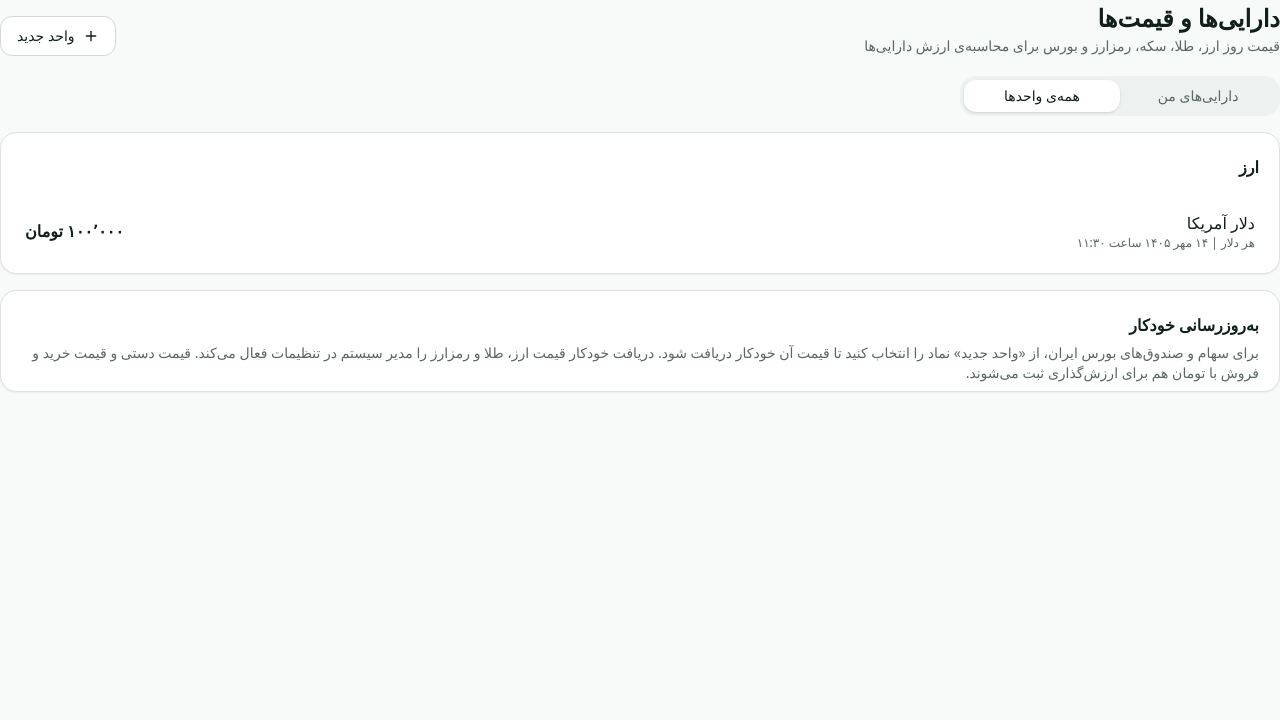
Test case: Iranian securities › lets an ordinary user search and add an Iranian security with automatic pricing
Click the button "واحد جدید": x=58, y=36 [0, 16, 116, 56]
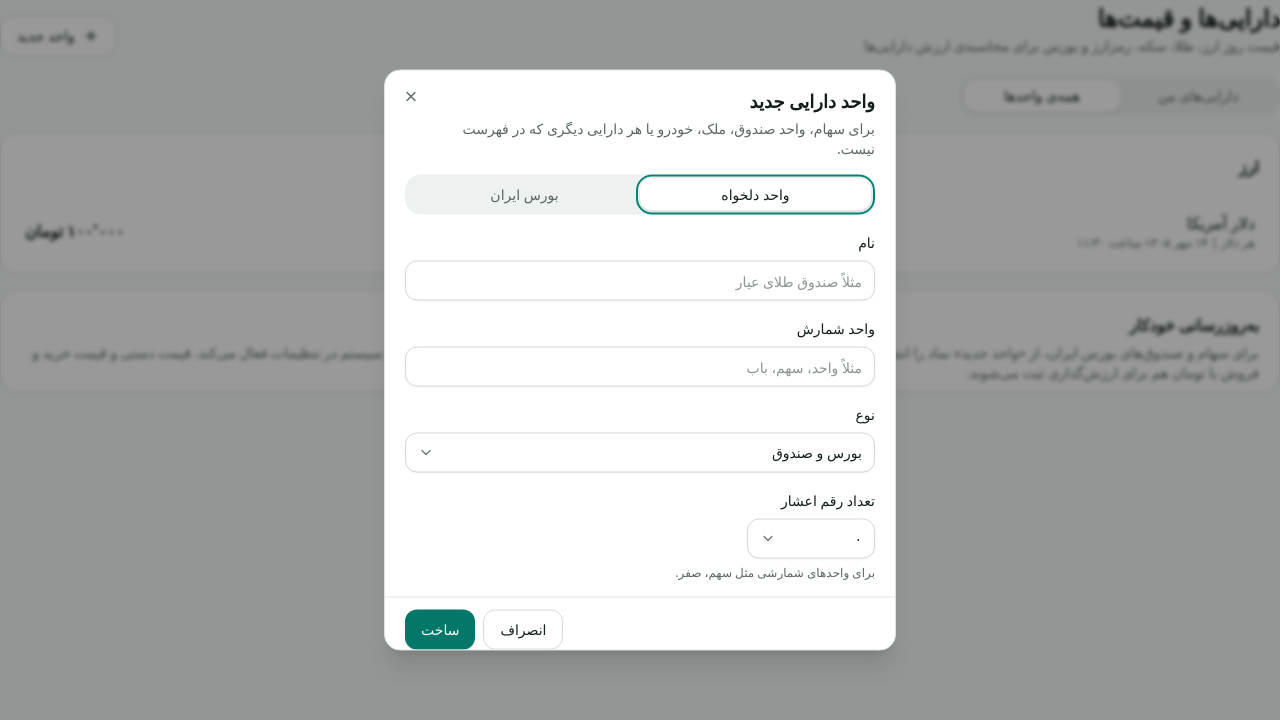
Click the radio button labelled "بورس ایران": x=524, y=194 [409, 178, 640, 210]
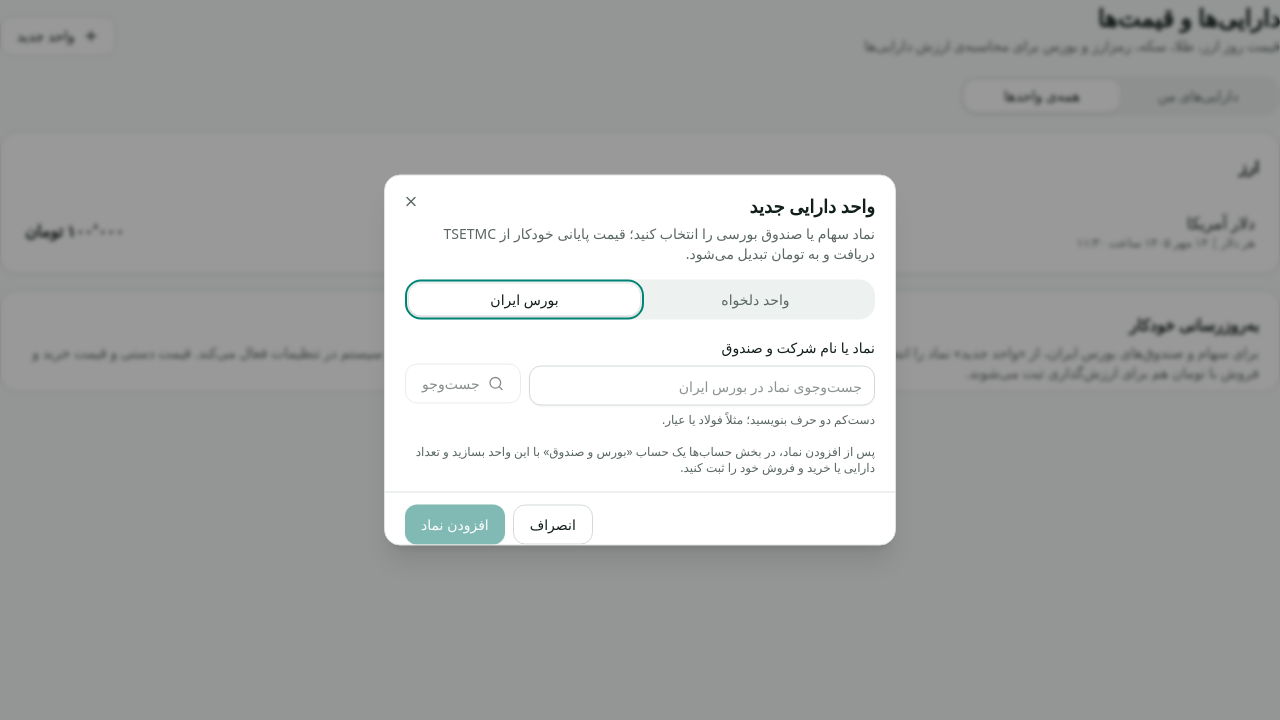
Result: the button "افزودن نماد" is disabled at [405, 504, 505, 544]
In the field labelled "نماد یا نام شرکت و صندوق": x=702, y=386 [528, 366, 875, 406], type "فولاد"
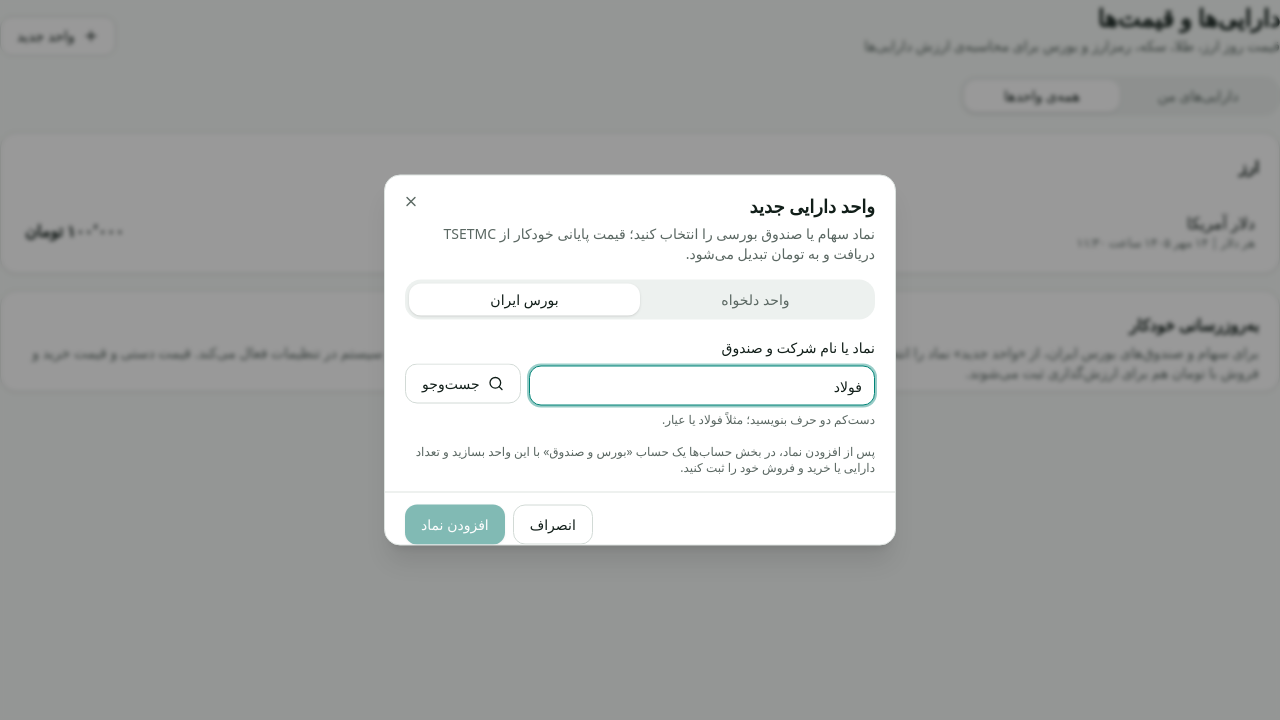
Click the button "جست‌وجو": x=463, y=384 [405, 364, 520, 404]
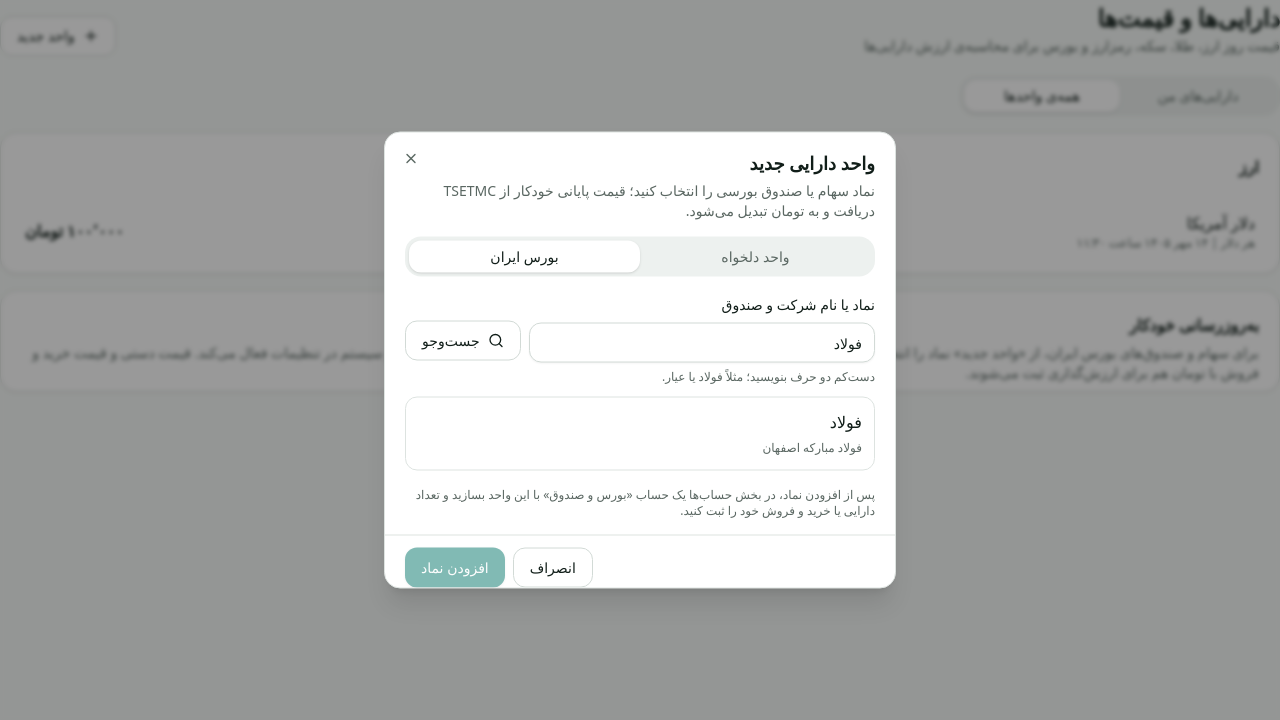
Click the radio button labelled "فولاد فولاد مبارکه اصفهان": x=846, y=422 [406, 398, 874, 470]
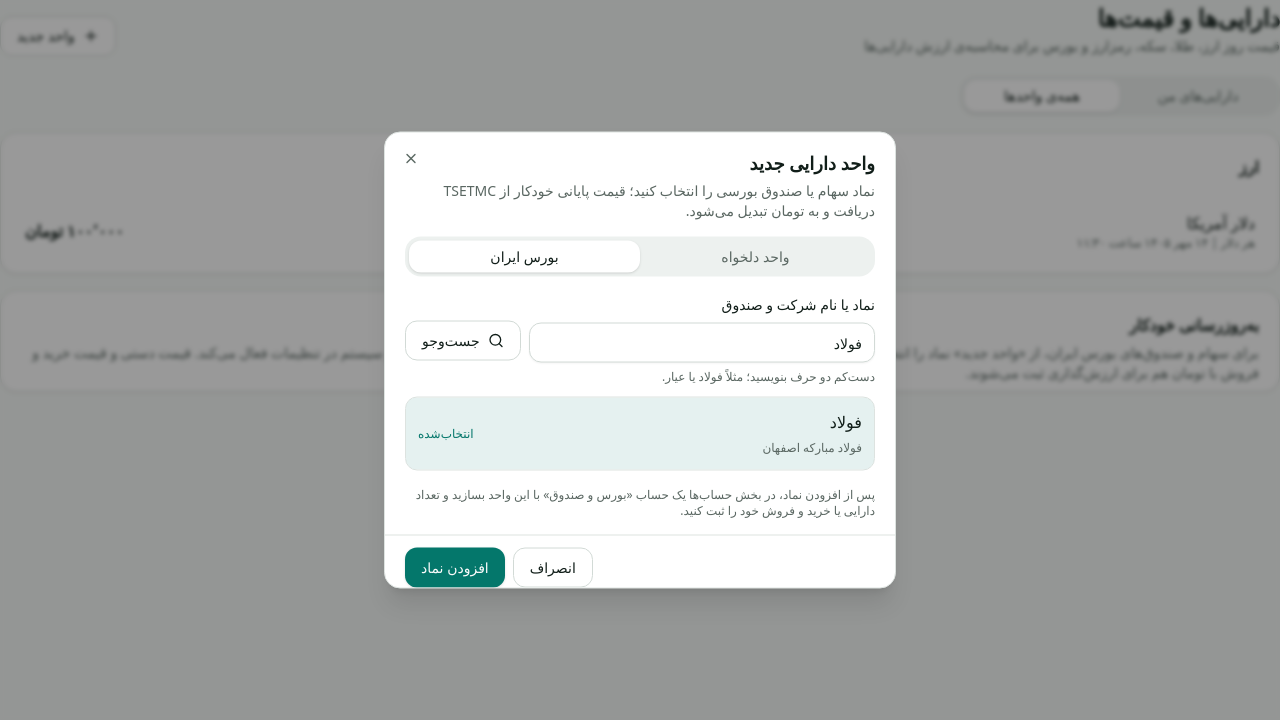
Click the button "افزودن نماد": x=455, y=568 [405, 548, 505, 588]
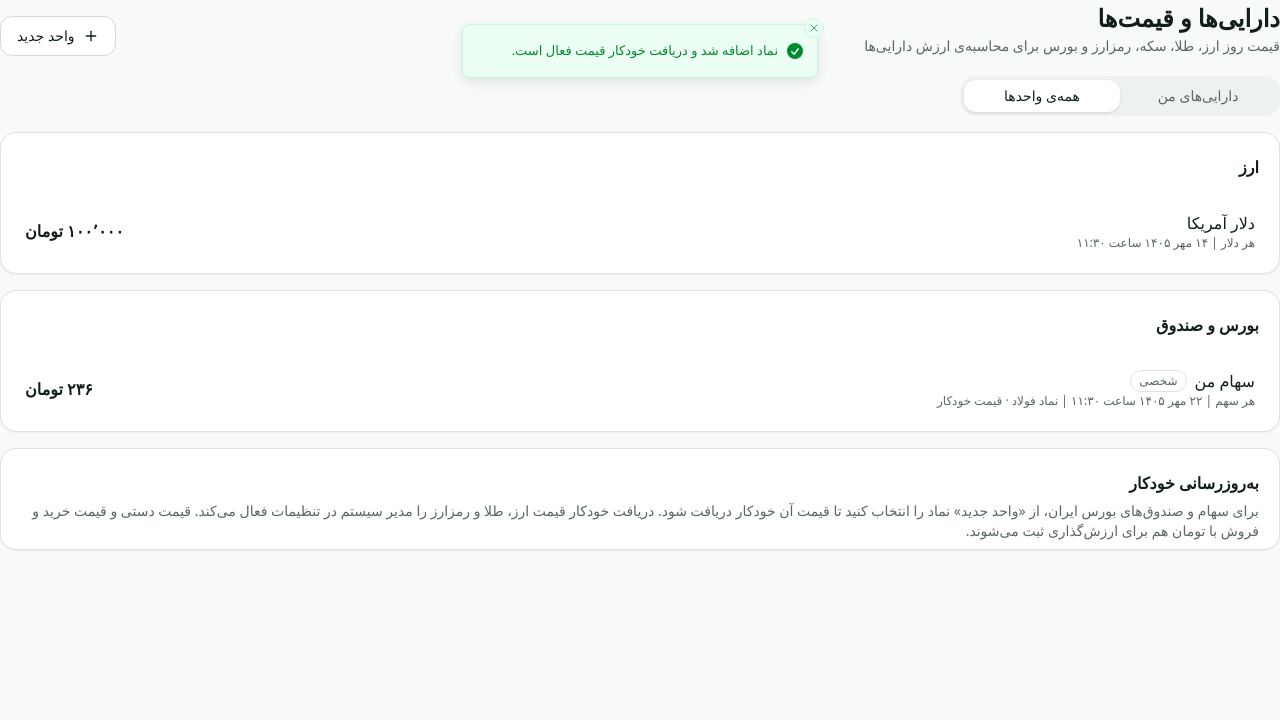
Result: the dialog is gone
Result: the text "هر سهم | ۲۲ مهر ۱۴۰۵ ساعت ۱۱:۳۰ | نماد فولاد · قیمت خودکار" is shown at [937, 393, 1255, 409]
